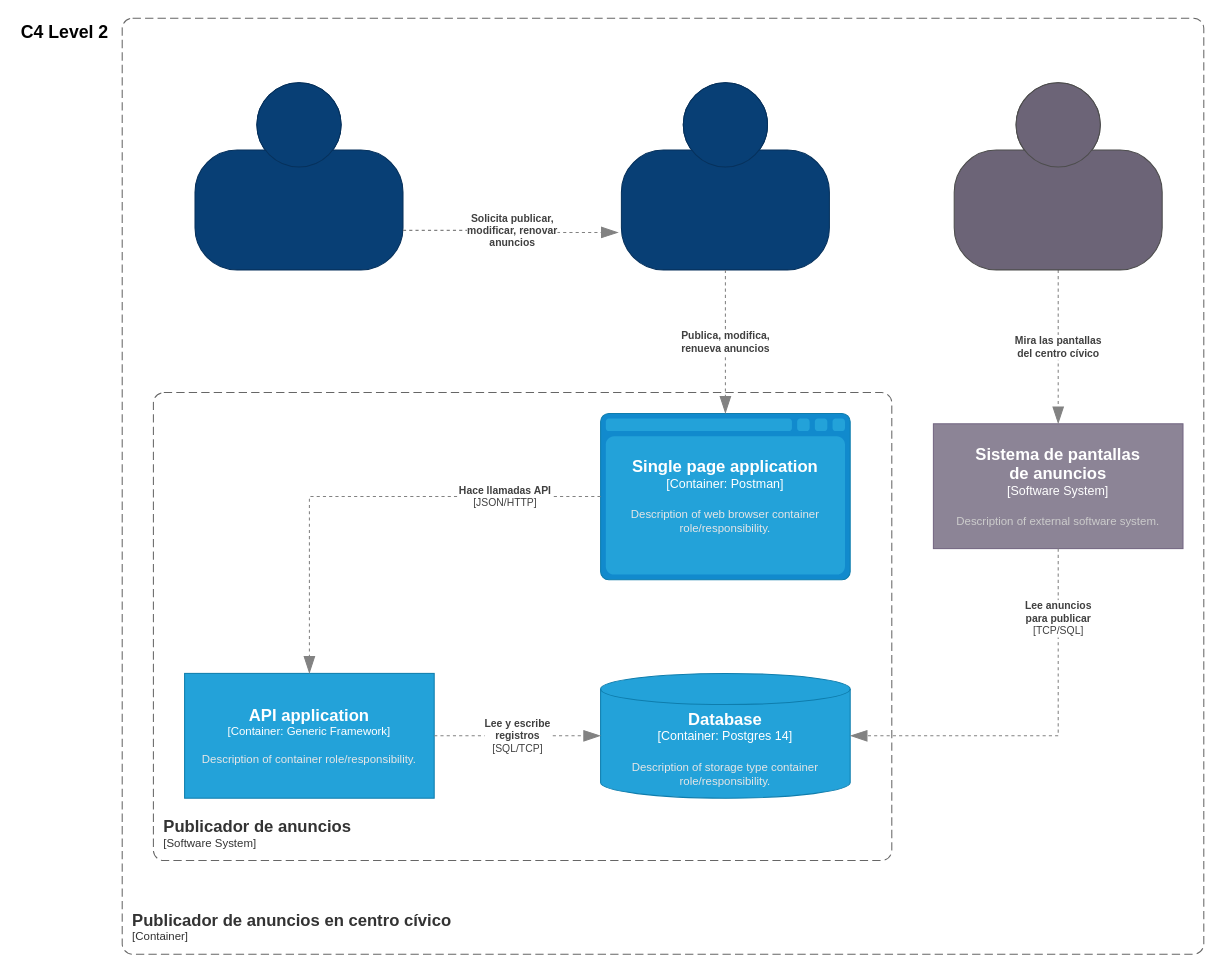
Image size: 1222x972. Some labels were removed from this diagram. Here are the shapes that lost their labels. From the top down, the centre of each, then its label:
At (x=298, y=176): "Socio centro cívico [Person] Description of person.".
At (x=724, y=176): "Gestor anuncios [Person] Description of person.".
At (x=1057, y=176): "Visitante de centro cívico [Person] Description of external person.".
